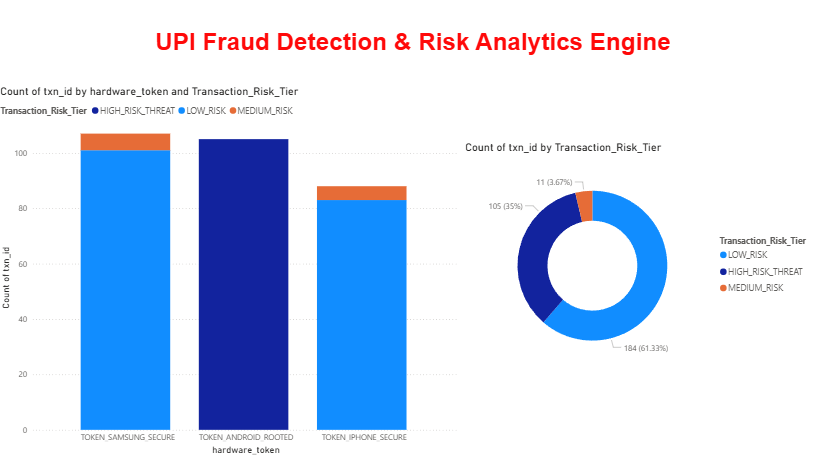

Layout of this report page (visuals, bound fields, positions):
{"tool":"powerbi","page":{"name":"Page 1","canvas":[1280,720],"ordinal":0},"visuals":[{"type":"donutChart","fields":{"Category":["upi_risk_analytics fact_transactions.Transaction_Risk_Tier"],"Y":["Count(upi_risk_analytics fact_transactions.txn_id)"]},"box":[715.4,218.5,546.2,364.6],"z":0},{"type":"columnChart","fields":{"Category":["upi_risk_analytics dim_device.hardware_token"],"Y":["CountNonNull(upi_risk_analytics fact_transactions.txn_id)"],"Series":["upi_risk_analytics fact_transactions.Transaction_Risk_Tier"]},"box":[0,132.3,715.4,573.8],"z":1},{"type":"textbox","box":[226.2,40,827.7,69.2],"z":2}]}

Visuals, with their boxes in screenshot pixels (x1, y1, x2, y2), scaled from the page's 1280x720 canvas onto the 826x463 screenshot:
donutChart - upi_risk_analytics fact_transactions.Transaction_Risk_Tier x Count(upi_risk_analytics fact_transactions.txn_id): {"left": 462, "top": 141, "right": 814, "bottom": 375}
columnChart - upi_risk_analytics dim_device.hardware_token x CountNonNull(upi_risk_analytics fact_transactions.txn_id): {"left": 0, "top": 85, "right": 462, "bottom": 454}
textbox: {"left": 146, "top": 26, "right": 680, "bottom": 70}
